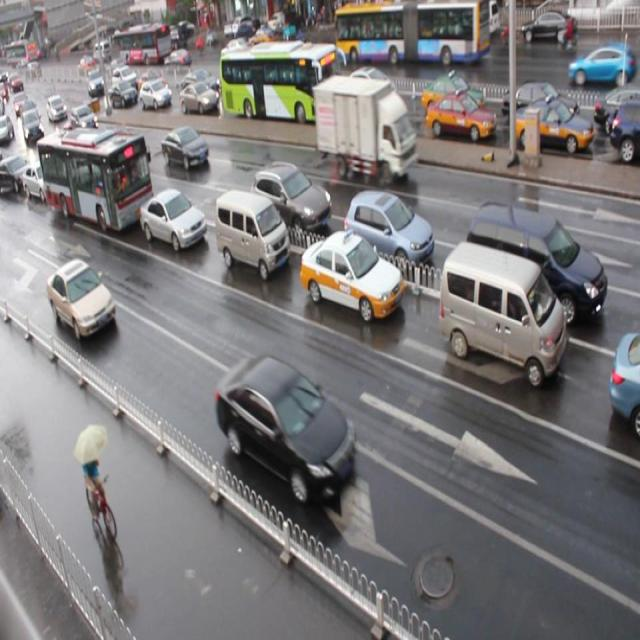bus: (314, 74, 418, 184)
car: (217, 353, 357, 507), (299, 228, 402, 322), (344, 194, 434, 277), (47, 258, 116, 342), (252, 163, 330, 235), (514, 99, 593, 158), (138, 187, 206, 252), (425, 92, 496, 143), (502, 82, 576, 128), (608, 331, 640, 435), (420, 76, 486, 121), (345, 86, 406, 133), (336, 66, 394, 111), (162, 126, 208, 172), (592, 92, 640, 133), (608, 99, 640, 160), (21, 158, 60, 203), (94, 133, 131, 173), (0, 153, 32, 192), (180, 83, 219, 114), (230, 69, 264, 103), (182, 68, 221, 97), (139, 80, 172, 112), (70, 105, 98, 136), (113, 65, 139, 94), (111, 81, 136, 110), (138, 68, 163, 93)
truck: (465, 198, 607, 332), (438, 240, 565, 388), (213, 187, 289, 280)
van: (37, 126, 154, 235), (216, 42, 339, 124)
